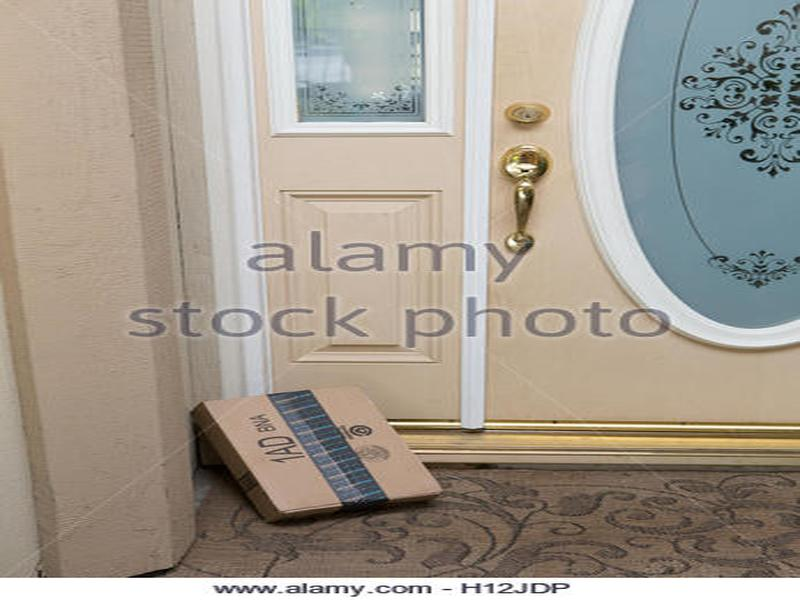package: (183, 379, 448, 530)
